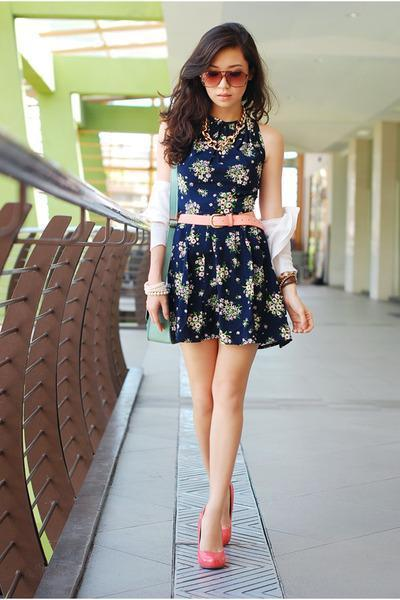dress: (157, 93, 291, 347)
shoe: (196, 532, 256, 567)
sunglass: (208, 61, 247, 94)
